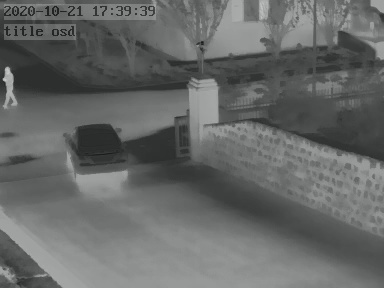person: (3, 63, 19, 107)
vehicle: (62, 122, 127, 179)
